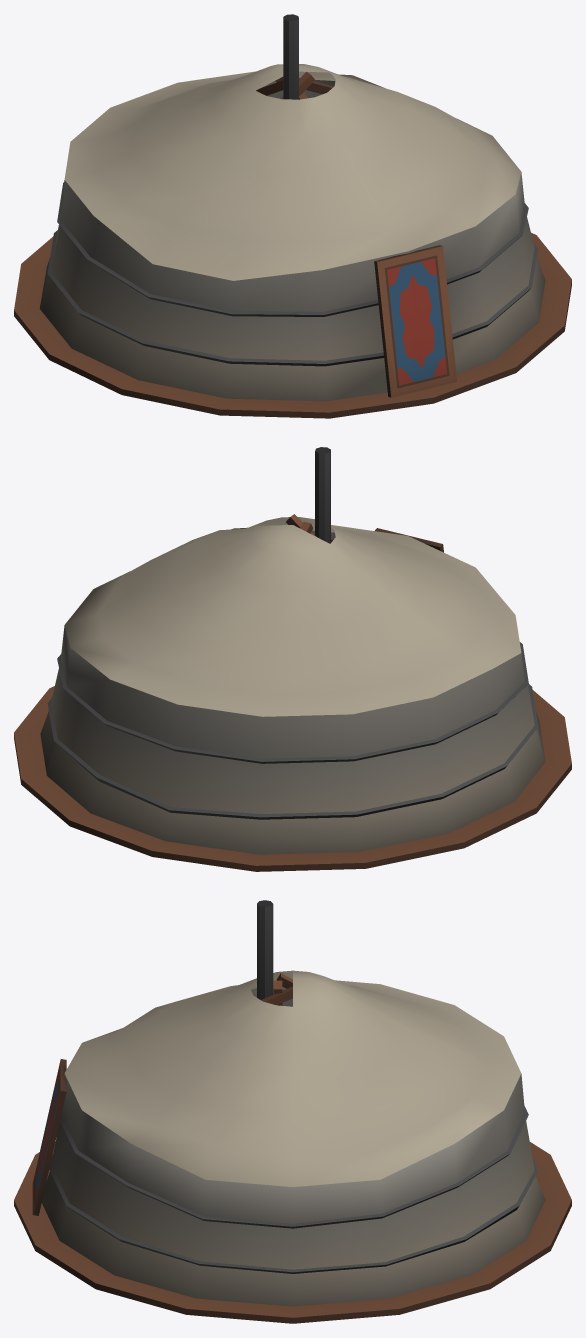
File: buildings-tents-yurt_v1.glb
3 views of the same model, one above another, from view 1: azimuth 30°, elevation 25°; view 2: azimuth 150°, elevation 25°; view 3: azimuth 270°, elevation 25° (orthographic).
Parts seen in each view (by area): view 1: Yurt_v1; view 2: Yurt_v1; view 3: Yurt_v1.
Boxes of the visible parts, bbox=[...] form: Yurt_v1: bbox=[14, 14, 571, 418]; Yurt_v1: bbox=[14, 447, 571, 871]; Yurt_v1: bbox=[14, 900, 571, 1323].
Size of the model in its own units: 14.2 by 8.27 by 14.2.
